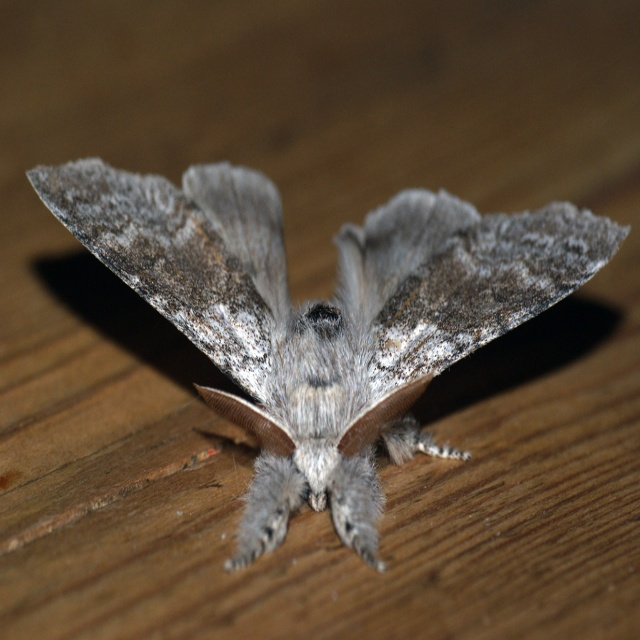Moths and butterflies: (23, 157, 634, 575)
